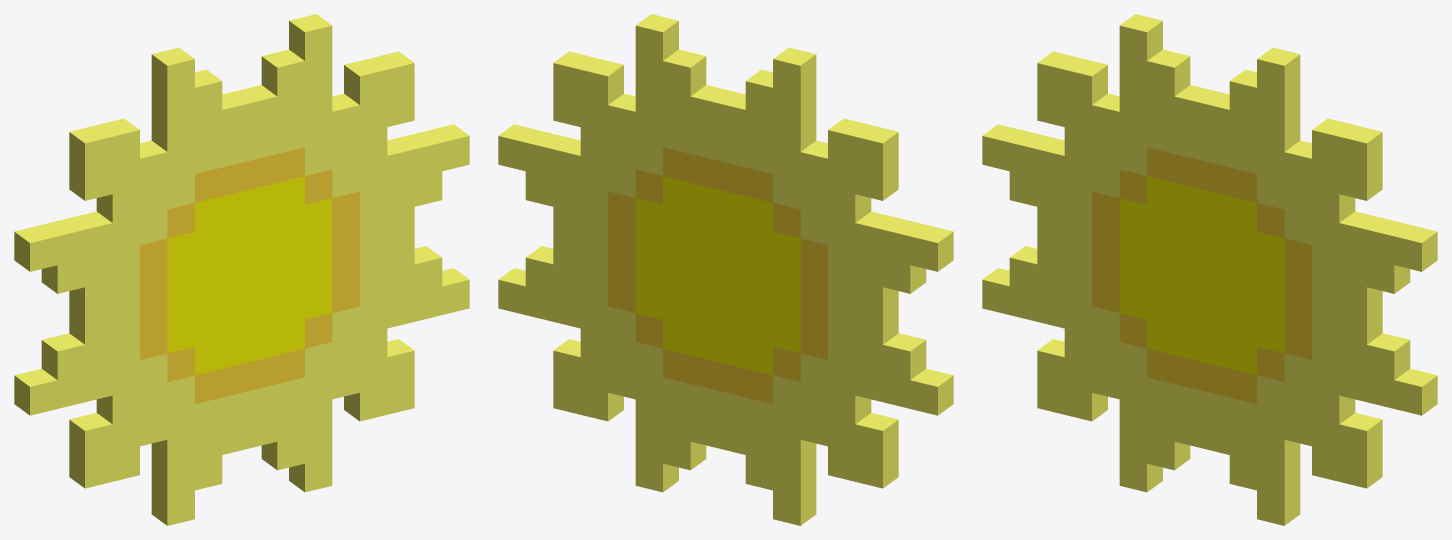
The model's file is sun.obj.
The picture shows the model from 3 angles, left to right: view 1: azimuth 30°, elevation 25°; view 2: azimuth 150°, elevation 25°; view 3: azimuth 330°, elevation 25°; orthographic projection.
Size of the model in its own units: 1.6 by 1.6 by 0.1.
1 material, 1 textured.
